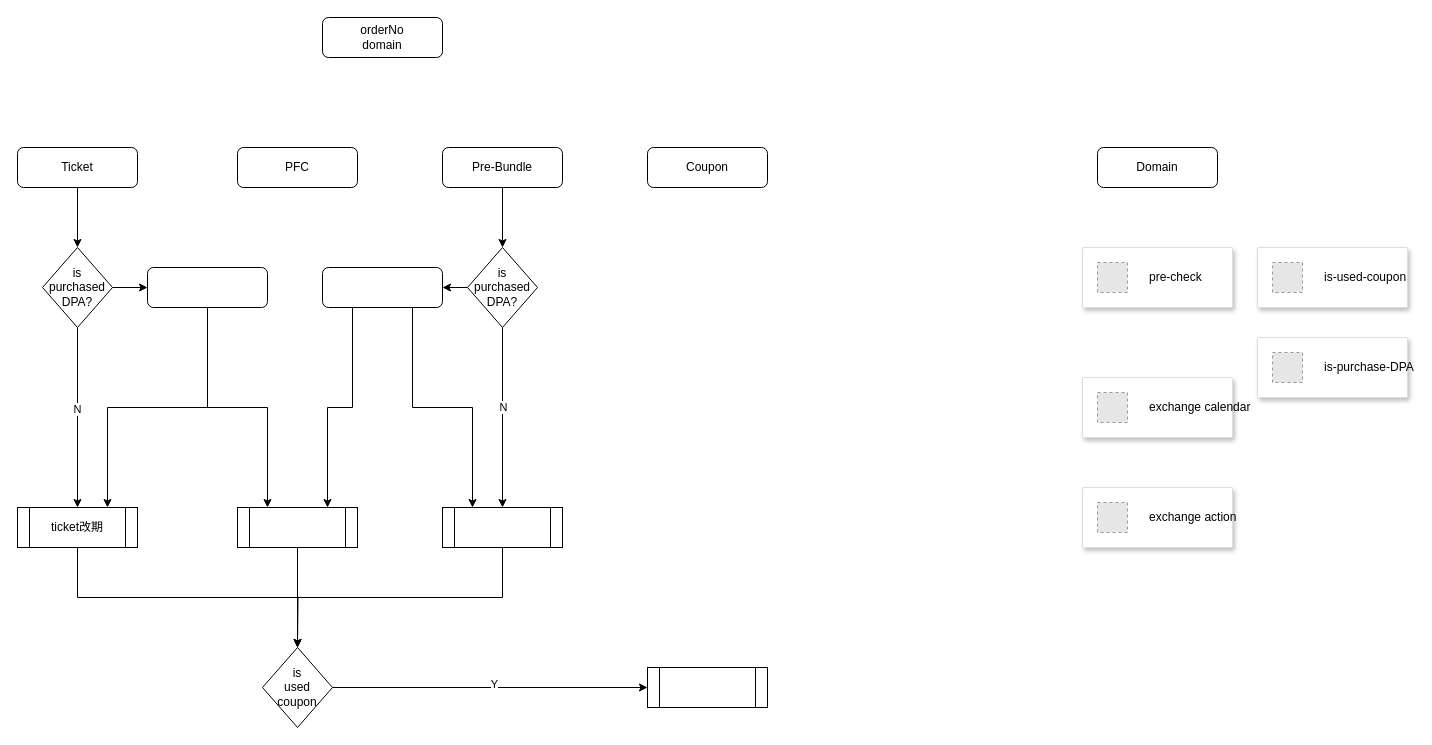
The diagram is 1432 pixels wide and 745 high, and some of its shapes have lost their labels. Grey dashed boxes stand in for pictures. Here are the shapes that lost their labels. From the top down, the centre of each, then its label:
At point (207, 287): "ticket+DPA".
At point (382, 287): "Pre-Bundle+DPA".
At point (297, 527): "DPA改期".
At point (502, 527): "pre-bundle 改期".
At point (707, 687): "Coupon改期?".
